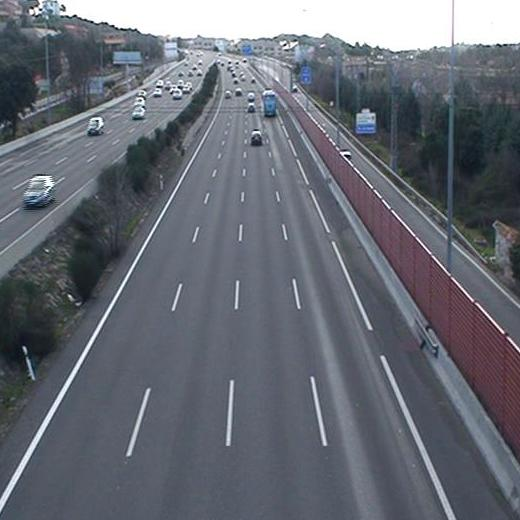bus: (261, 86, 279, 119)
car: (250, 129, 265, 147), (245, 102, 260, 116)
